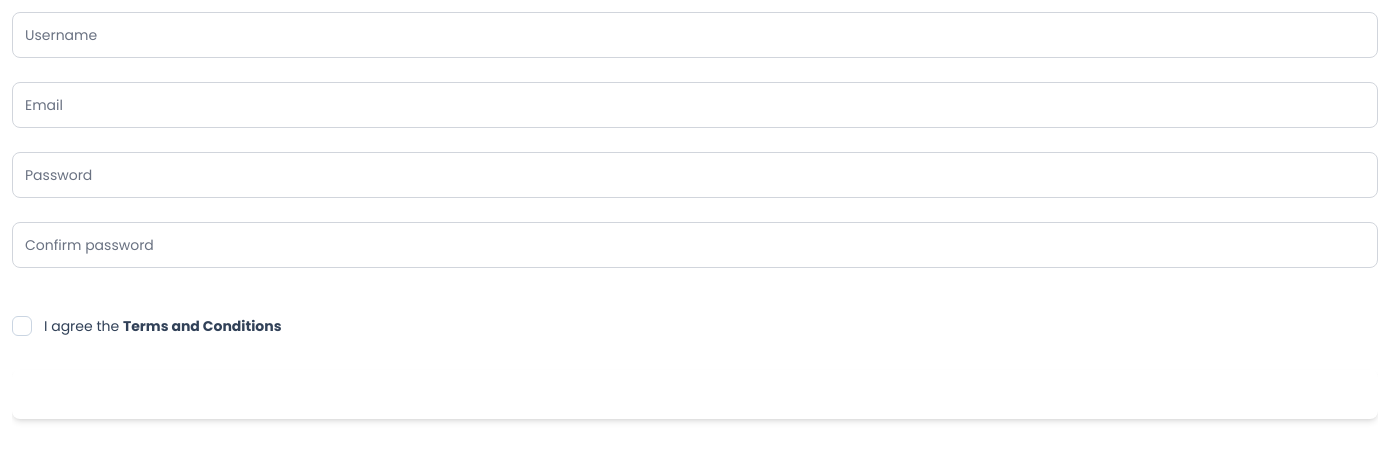
Test: testing Sign up form › shows validation error on email invalid
In the field labelled "Email": (695, 105) [12,82,1378,128], type "invalid@email"
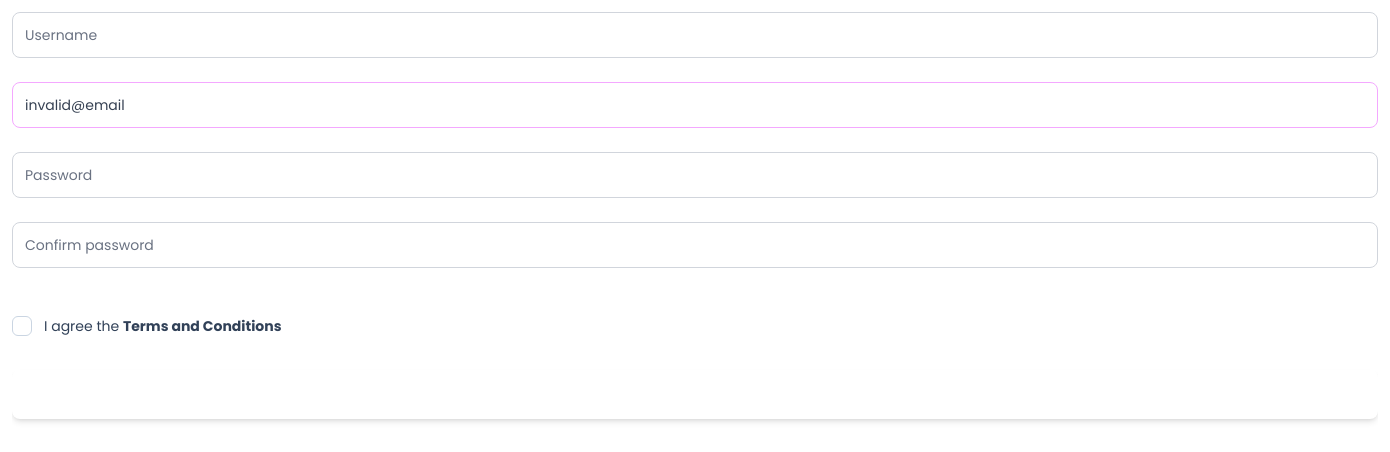
Click the button "Sign Up": (695, 394) [12,370,1378,419]
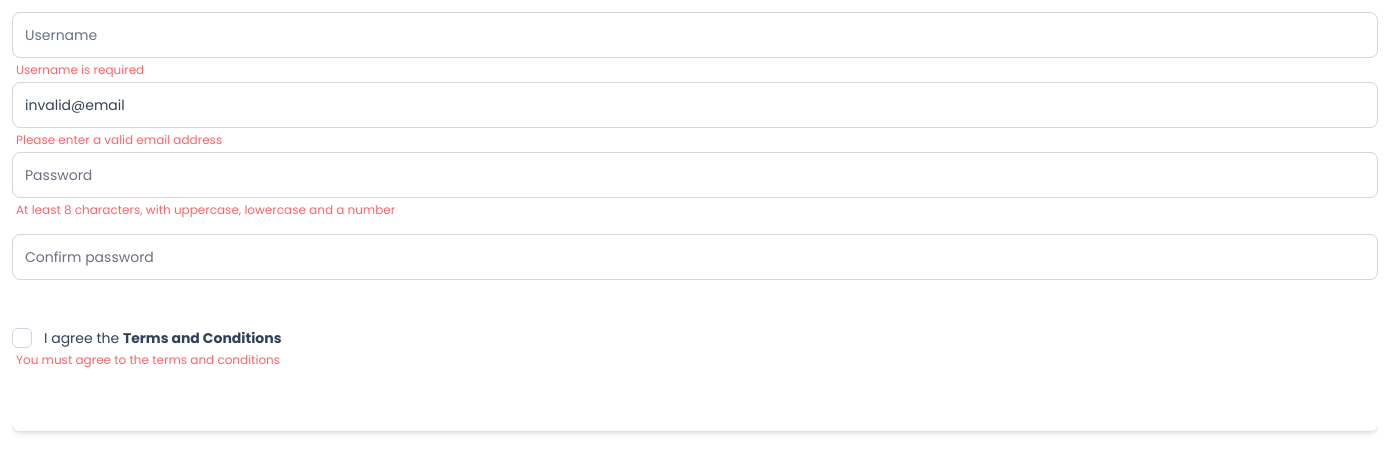
Check: the text "Please enter a valid email address" is shown, box [16,131,222,148]
